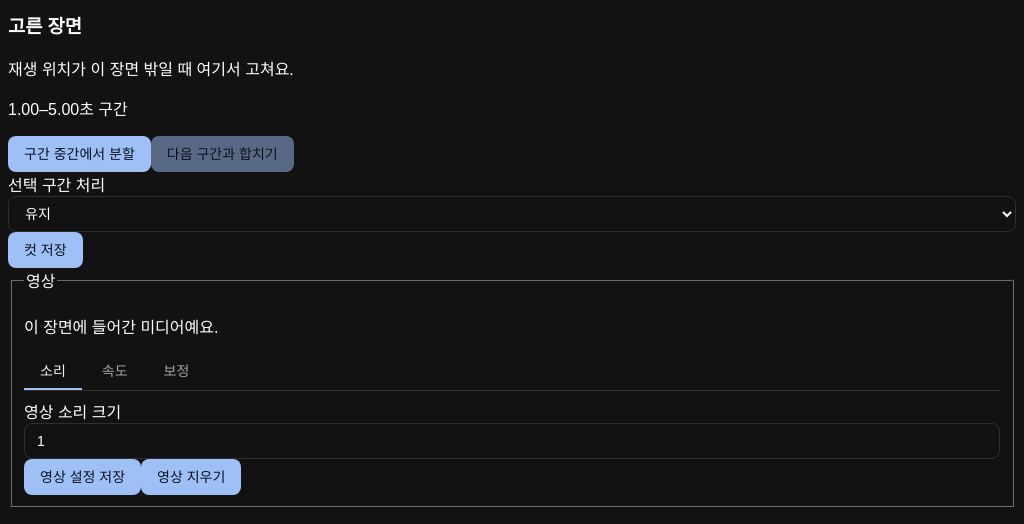
InspectorControls › says up front that CapCut will not show the same look
Click the tab "보정" at (176, 372), box [148, 354, 205, 390]
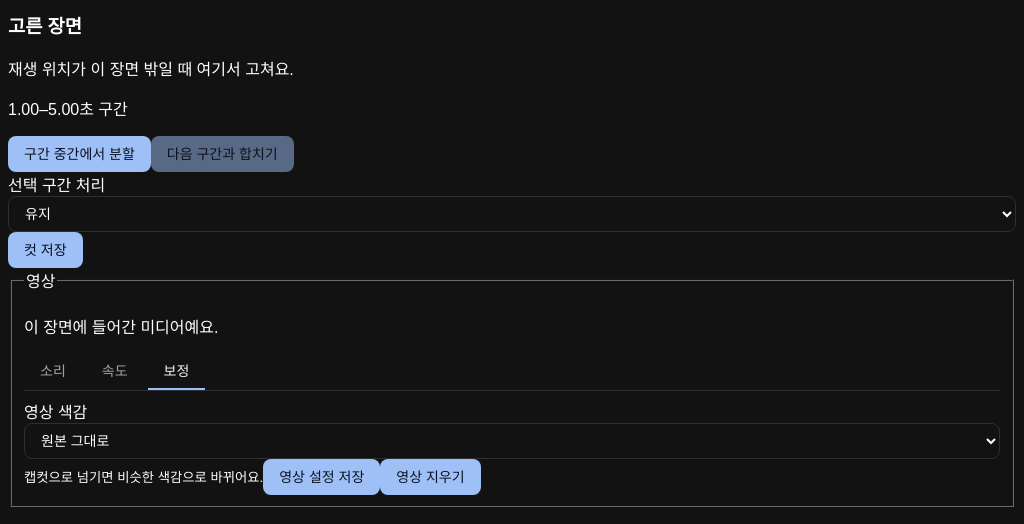
Expected: the text "캡컷으로 넘기면 비슷한 색감으로 바뀌어요." is shown, [24, 470, 263, 485]
